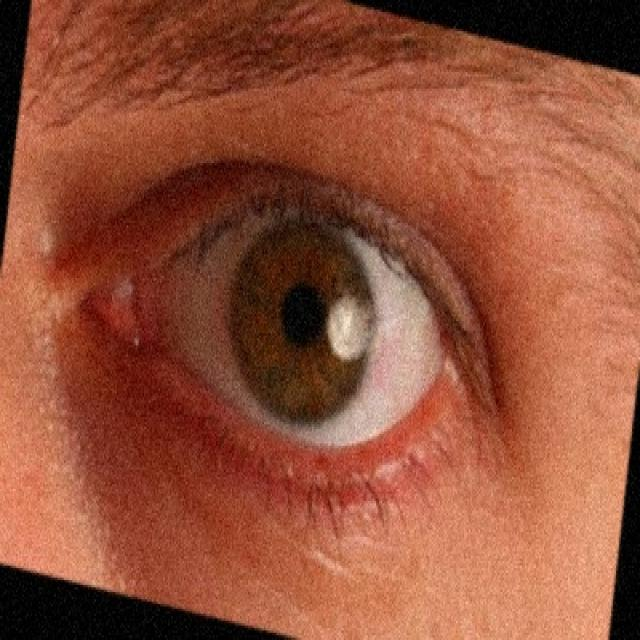Healthy-Eye: (55, 91, 505, 546)
